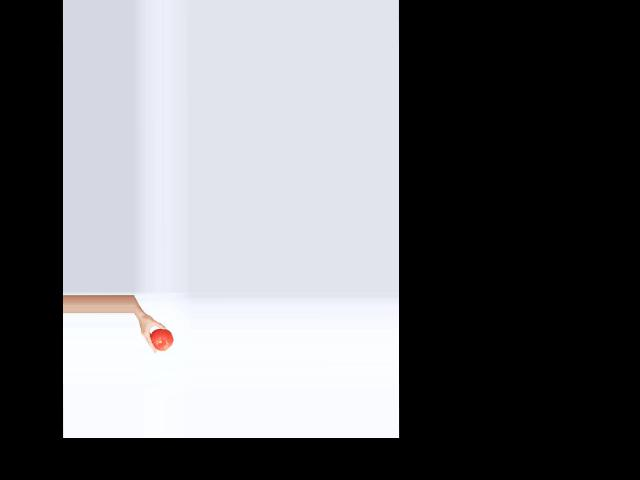tomato: (151, 329, 173, 351)
